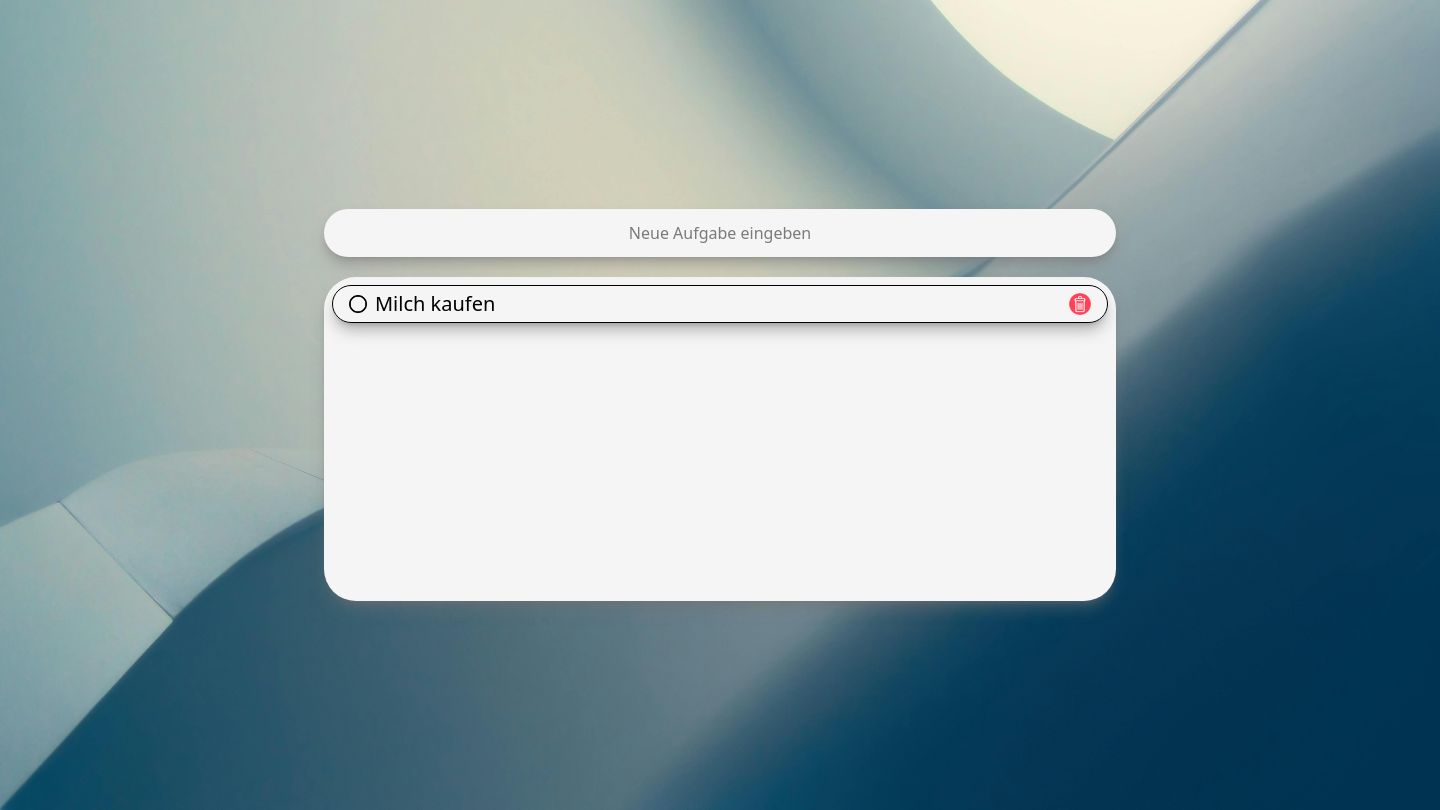
Test case: Test whether a many task was successfully added to list
Type "Staubsaugen" into the field with placeholder "Neue Aufgabe eingeben" at (720, 233), box [324,221,1116,245]
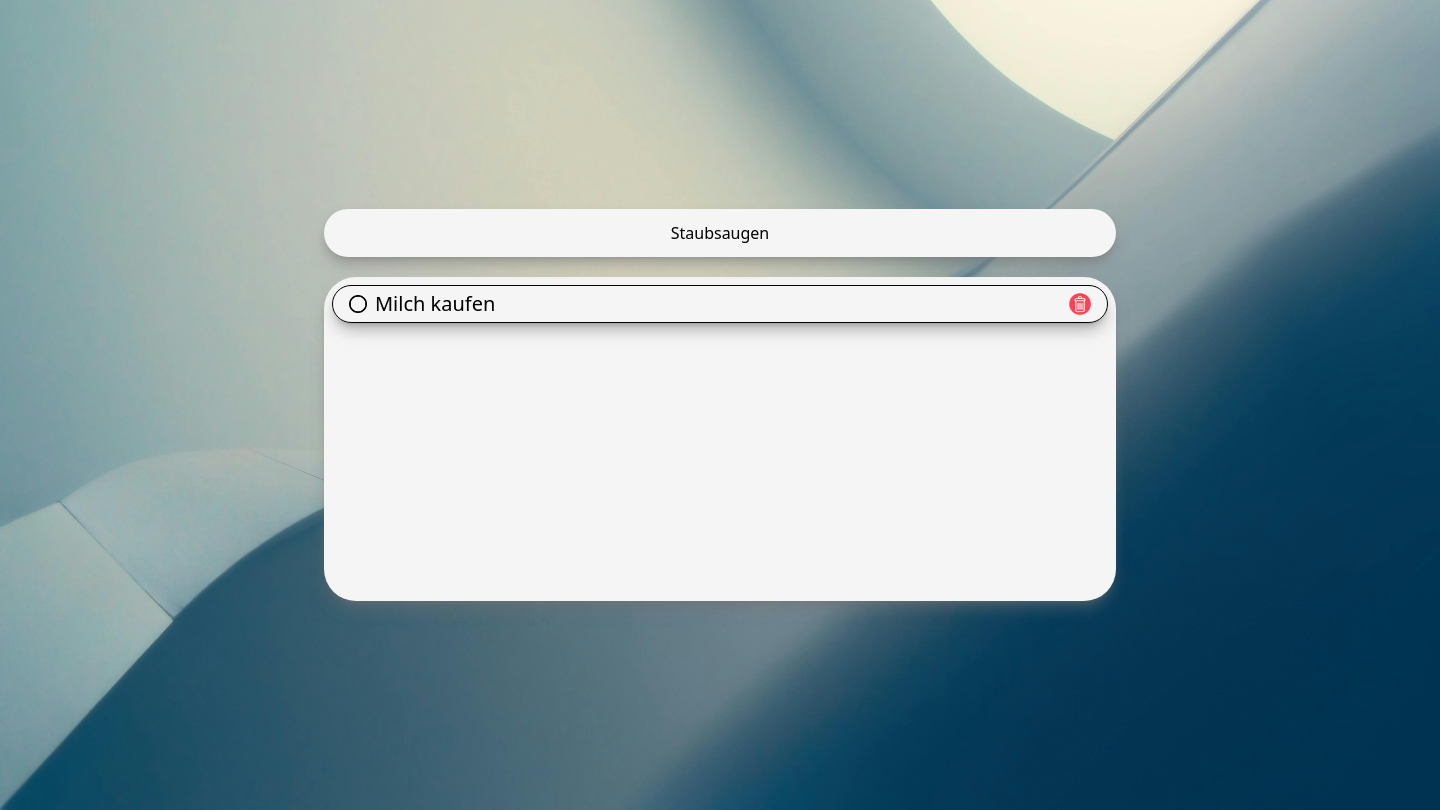
Press Enter in the field with placeholder "Neue Aufgabe eingeben", box [324,221,1116,245]
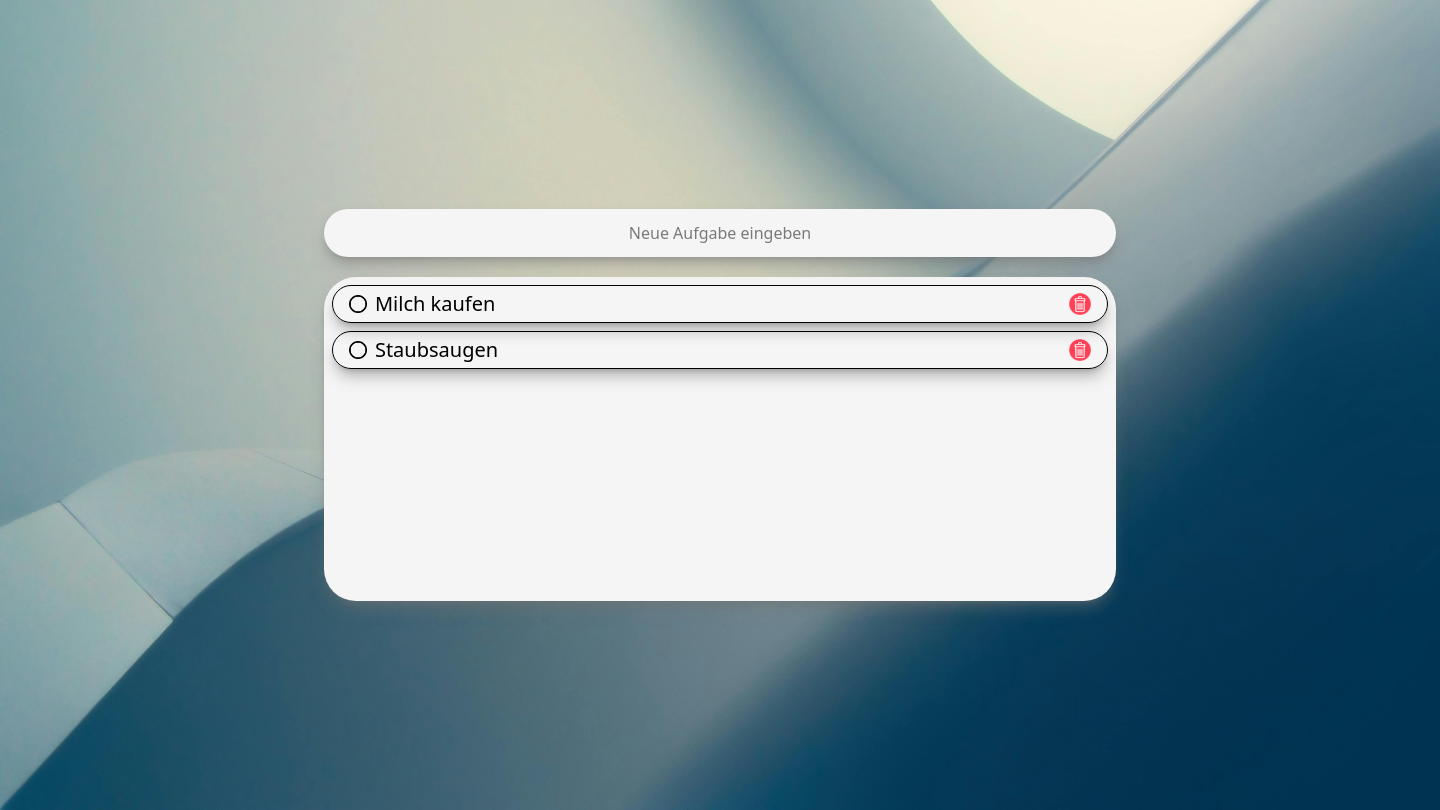
Type "Fenster putzen" into the field with placeholder "Neue Aufgabe eingeben" at (720, 233), box [324,221,1116,245]
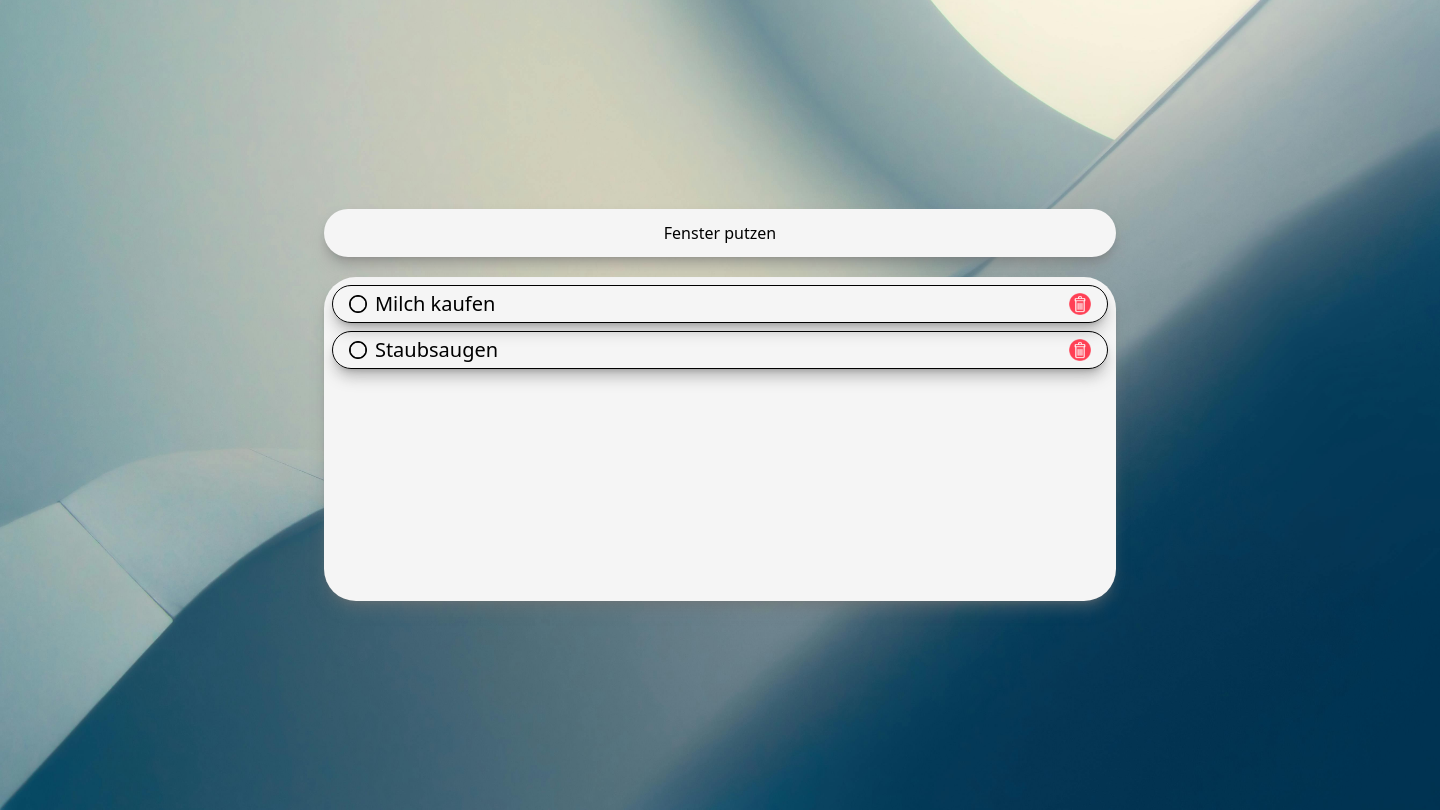
Press Enter in the field with placeholder "Neue Aufgabe eingeben", box [324,221,1116,245]
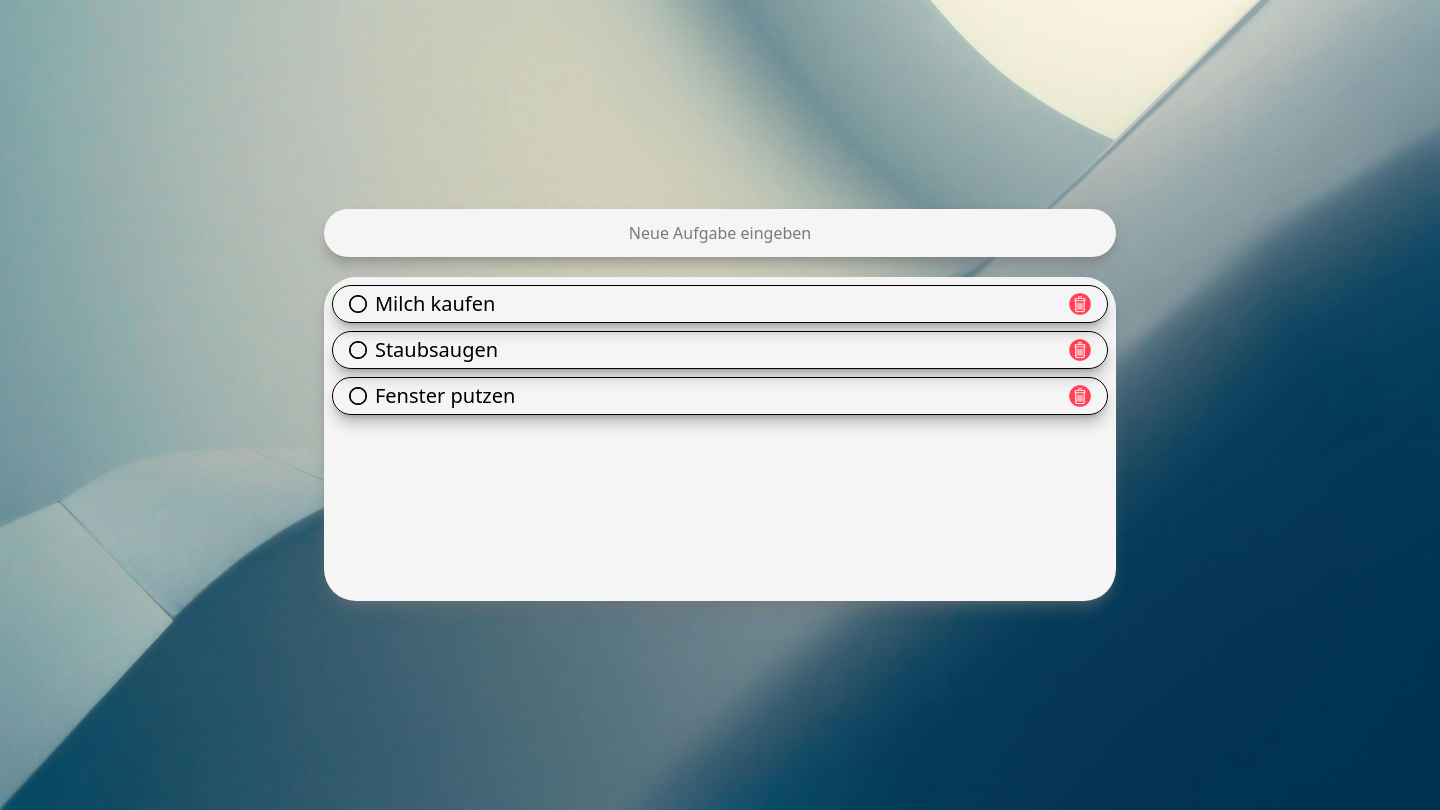
Type "Auto aussaugen" into the field with placeholder "Neue Aufgabe eingeben" at (720, 233), box [324,221,1116,245]
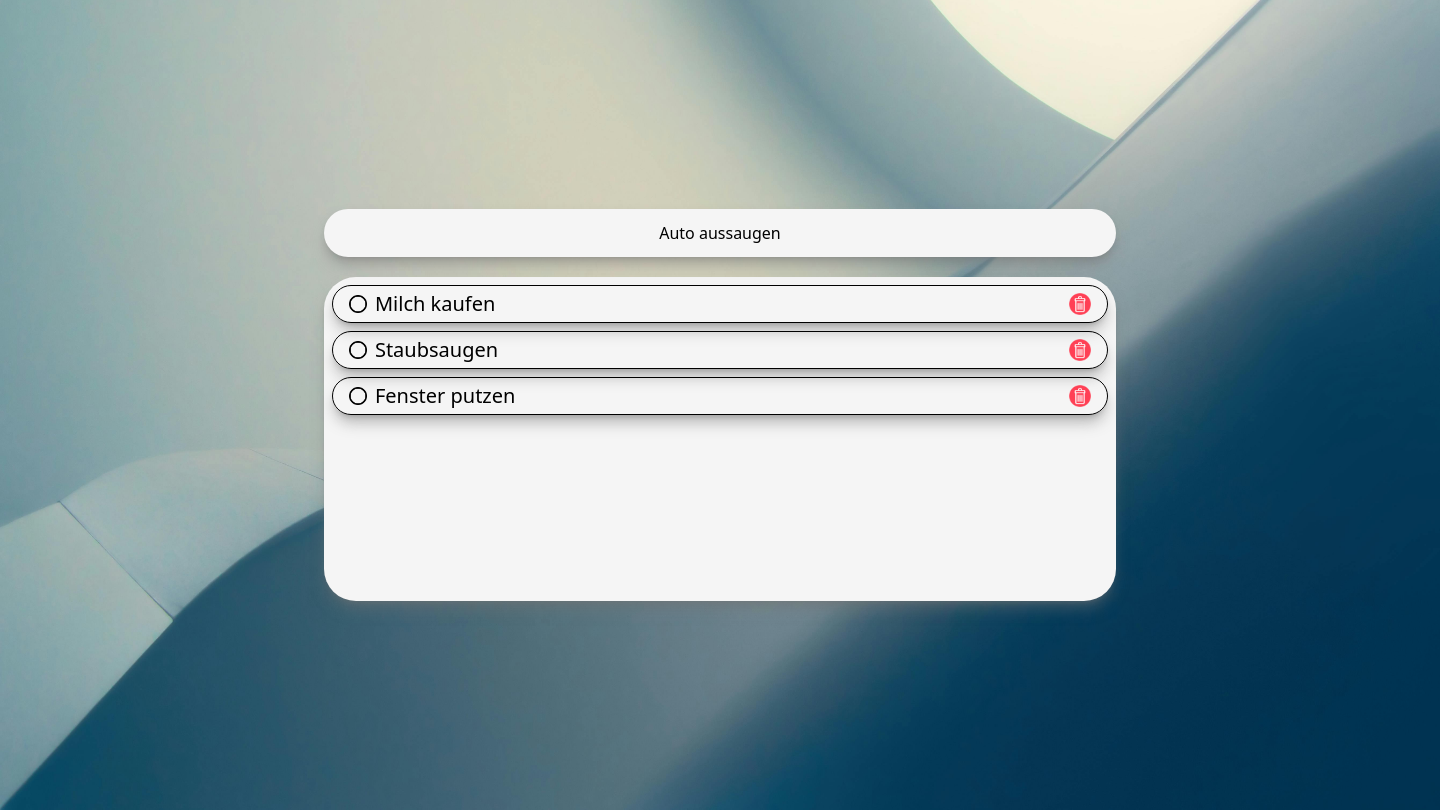
Press Enter in the field with placeholder "Neue Aufgabe eingeben", box [324,221,1116,245]
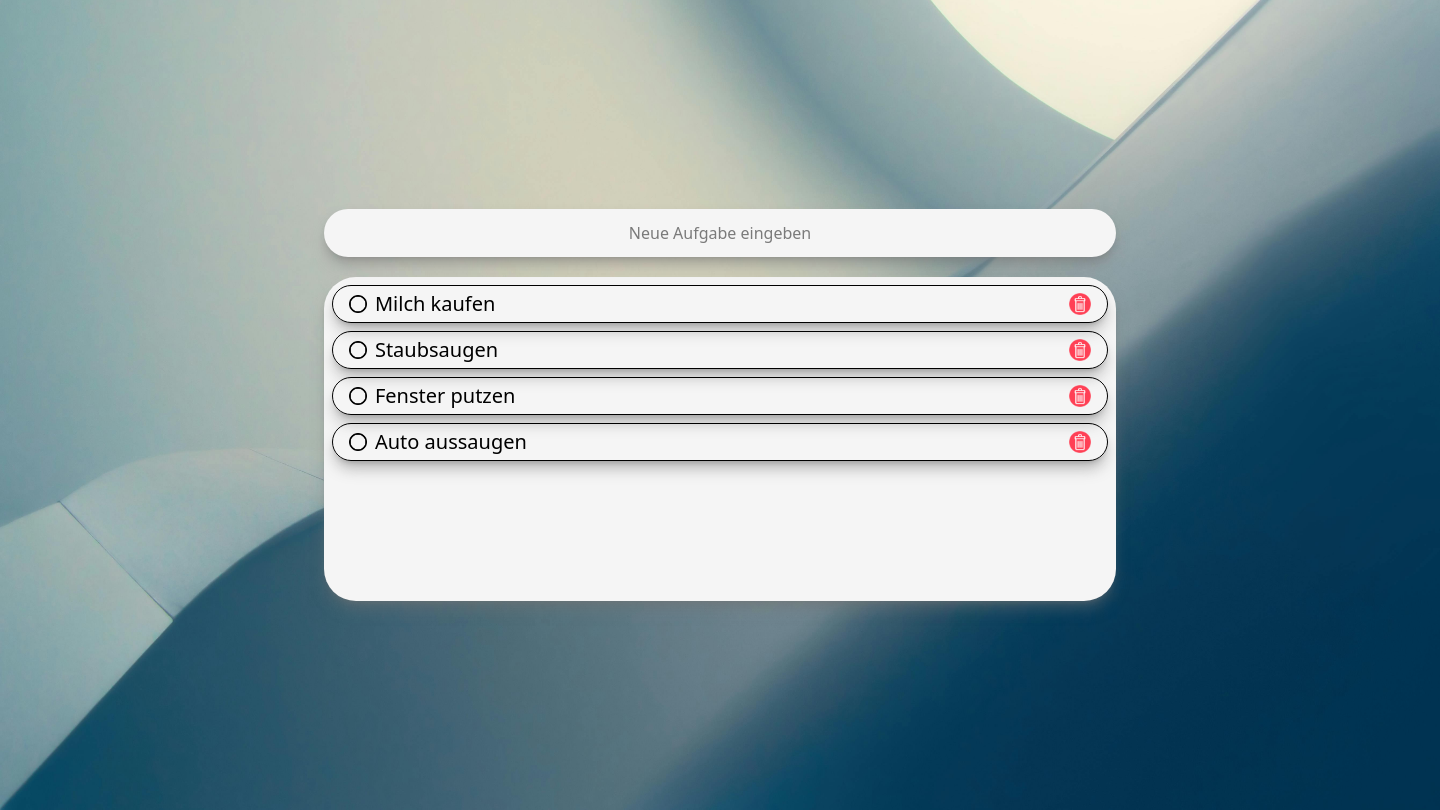
Expected: the text "Staubsaugen" is shown, [375,336,498,364]
Expected: the text "Fenster putzen" is shown, [375,382,515,410]
Expected: the text "Auto aussaugen" is shown, [375,428,527,456]
